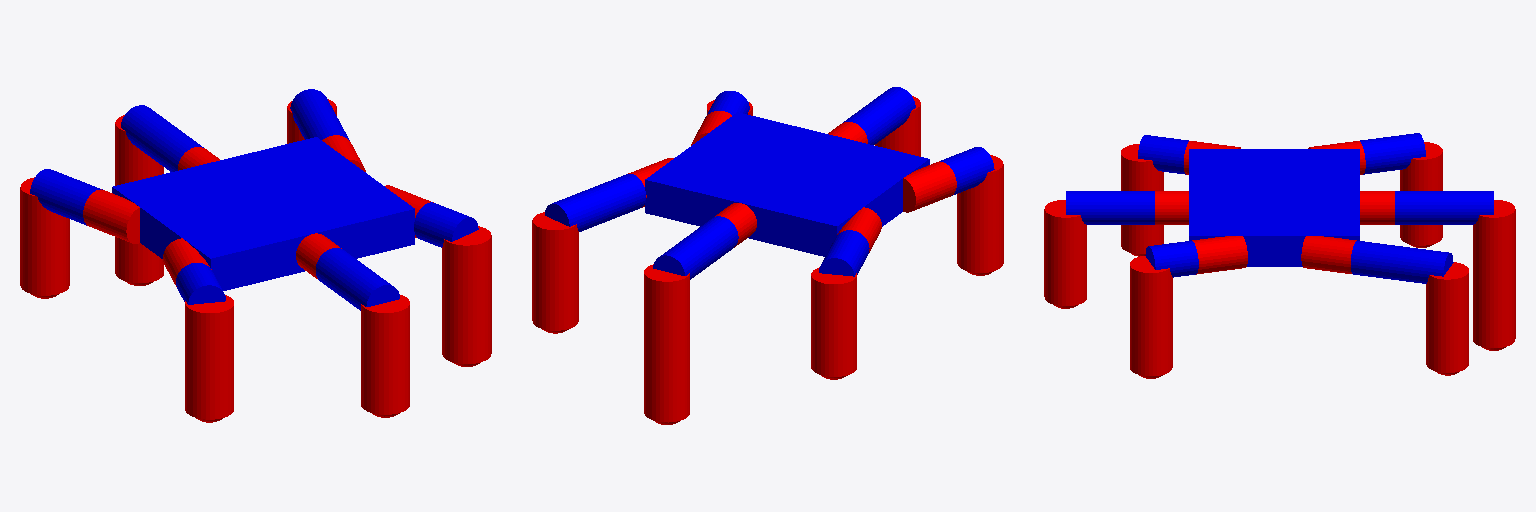
--- Facts derived from the render (not from the file) ---
Views: 3 orthographic renders of the robot side by side, from view 1: azimuth 30°, elevation 25°; view 2: azimuth 150°, elevation 25°; view 3: azimuth 270°, elevation 25°.
Model pexod with 19 links and 18 joints (18 revolute), rooted at base_link, posed every joint at zero.
Links seen in each view (by area): view 1: base_link, leg_3_3, leg_5_3, leg_4_3, leg_0_3, leg_1_3, leg_4_2, leg_1_2, leg_0_1, leg_0_2, leg_3_2, leg_2_2 (+5 smaller); view 2: base_link, leg_1_3, leg_2_3, leg_0_3, leg_5_3, leg_2_2, leg_1_2, leg_4_2, leg_5_1, leg_0_2, leg_5_2, leg_4_3 (+3 smaller); view 3: base_link, leg_1_3, leg_3_3, leg_2_3, leg_4_3, leg_1_2, leg_2_2, leg_4_2, leg_5_3, leg_0_3, leg_0_2, leg_2_1 (+5 smaller).
Boxes of the visible links, x1,y1,x2,y2 form: base_link: (112,137,414,290); leg_3_3: (442,226,491,366); leg_5_3: (185,295,233,422); leg_4_3: (361,295,409,417); leg_0_3: (20,177,69,298); leg_1_3: (115,115,163,285); leg_4_2: (316,248,399,310); leg_1_2: (121,105,203,171); leg_0_1: (83,189,139,243); leg_0_2: (30,169,102,225); leg_3_2: (414,202,478,247); leg_2_2: (290,89,349,140); base_link: (645,112,929,256); leg_1_3: (644,264,689,424); leg_2_3: (532,212,578,333); leg_0_3: (811,267,856,379); leg_5_3: (957,155,1003,275); leg_2_2: (545,174,645,231); leg_1_2: (653,216,738,279); leg_4_2: (843,87,915,144); leg_5_1: (903,161,956,212); leg_0_2: (819,230,869,276); leg_5_2: (940,147,994,195); leg_4_3: (875,96,920,156); base_link: (1189,149,1359,266); leg_1_3: (1473,200,1515,350); leg_3_3: (1130,256,1172,378); leg_2_3: (1426,262,1468,375); leg_4_3: (1044,200,1086,308); leg_1_2: (1395,191,1493,224); leg_2_2: (1351,241,1453,283); leg_4_2: (1066,191,1154,224); leg_5_3: (1121,144,1163,256); leg_0_3: (1400,142,1442,247); leg_0_2: (1360,133,1425,174); leg_2_1: (1301,236,1356,273).
Size in the robot's own frame: 0.3804 by 0.5491 by 0.2005 metres.
Geometry: primitives only (box / cylinder / sphere), no mesh files.

URDF robot description (pexod):
<?xml version="1.0" ?>
<!-- =================================================================================== -->
<!-- |    This document was autogenerated by xacro from pexod.xacro                    | -->
<!-- |    EDITING THIS FILE BY HAND IS NOT RECOMMENDED                                 | -->
<!-- =================================================================================== -->
<robot name="pexod" xmlns:xacro="http://www.ros.org/wiki/xacro">
  <!-- <xacro:include filename="$(find pexod_description)/urdf/pexod_control.xacro" /> -->
  <!-- MATERIALS -->
  <material name="Blue">
    <color rgba="0 0 1 1"/>
  </material>
  <material name="Red">
    <color rgba="1 0 0 1"/>
  </material>
  <material name="Green">
    <color rgba="0 1 0 1"/>
  </material>
  <material name="Yellow">
    <color rgba="1 1 0 1"/>
  </material>
  <material name="LightGrey">
    <color rgba="0.6 0.6 0.6 1.0"/>
  </material>
  <!-- END OF MATERIALS -->
  <!-- XACRO MACROS FOR VISUALS AND COLLISIONS -->
  <!-- END OF XACRO MACROS -->
  <!-- TORSO -->
  <link name="base_link">
    <visual>
      <origin rpy="0 0 0" xyz="0 0 0"/>
      <geometry>
        <box size="0.24 0.2 0.04"/>
      </geometry>
      <material name="Blue"/>
    </visual>
    <collision>
      <origin rpy="0 0 0" xyz="0 0 0"/>
      <geometry>
        <box size="0.24 0.2 0.04"/>
      </geometry>
    </collision>
    <inertial>
      <!-- CENTER OF MASS -->
      <origin rpy="0 0 0" xyz="0 0 0"/>
      <mass value="1.031"/>
      <!-- box inertia: 1/12*m(y^2+z^2), ... -->
      <inertia ixx="0.00357413333333" ixy="0" ixz="0" iyy="0.00508626666667" iyz="0" izz="0.00838546666667"/>
    </inertial>
  </link>
  <!-- XACRO MACRO FOR LEGS LINKS/JOINTS -->
  <!-- END OF LEG LINKS/JOINTS -->
  <joint name="body_leg_2" type="revolute">
    <parent link="base_link"/>
    <child link="leg_2_1"/>
    <limit effort="30.0" lower="-1.57079632679" upper="1.57079632679" velocity="7.0"/>
    <origin rpy="0 0 -0.3" xyz="0.11 0.04 0"/>
    <!-- <xacro:if value="${index == 5 or index == 4 or index == 3}">
                <axis xyz="0 0 1"/>
            </xacro:if>
            <xacro:if value="${index == 2 or index == 1 or index == 0}"> -->
    <axis xyz="0 0 1"/>
    <!-- </xacro:if> -->
    <dynamics damping="0.0"/>
  </joint>
  <link name="leg_2_1">
    <visual>
      <origin rpy="1.57079632679 0 0" xyz="0.01 0.03 0"/>
      <geometry>
        <cylinder length="0.06" radius="0.02"/>
      </geometry>
      <material name="Red"/>
    </visual>
    <collision>
      <origin rpy="1.57079632679 0 0" xyz="0.01 0.03 0"/>
      <geometry>
        <box size="0.02 0.02 0.06"/>
      </geometry>
    </collision>
    <inertial>
      <!-- CENTER OF MASS -->
      <origin rpy="1.57079632679 0 0" xyz="0.01 0.03 0"/>
      <mass value="0.02"/>
      <!-- box inertia: 1/12*m(y^2+z^2), ... -->
      <inertia ixx="6.66666666667e-06" ixy="0" ixz="0" iyy="6.66666666667e-06" iyz="0" izz="1.33333333333e-06"/>
    </inertial>
  </link>
  <joint name="leg_2_1_2" type="revolute">
    <parent link="leg_2_1"/>
    <child link="leg_2_2"/>
    <limit effort="30.0" lower="-0.78539816339" upper="0.78539816339" velocity="7.0"/>
    <origin rpy="0 0 0" xyz="0 0.06 0"/>
    <axis xyz="1 0 0"/>
    <dynamics damping="0.0"/>
  </joint>
  <link name="leg_2_2">
    <visual>
      <origin rpy="1.57079632679 0 0" xyz="0.01 0.056655807546 0"/>
      <geometry>
        <cylinder length="0.113311615092" radius="0.02"/>
      </geometry>
      <material name="Blue"/>
    </visual>
    <collision>
      <origin rpy="1.57079632679 0 0" xyz="0.01 0.056655807546 0"/>
      <geometry>
        <box size="0.02 0.02 0.113311615092"/>
      </geometry>
    </collision>
    <inertial>
      <!-- CENTER OF MASS -->
      <origin rpy="1.57079632679 0 0" xyz="0.01 0.056655807546 0"/>
      <mass value="0.184"/>
      <!-- box inertia: 1/12*m(y^2+z^2), ... -->
      <inertia ixx="0.00020300600576" ixy="0" ixz="0" iyy="0.00020300600576" iyz="0" izz="1.22666666667e-05"/>
    </inertial>
  </link>
  <joint name="leg_2_2_3" type="revolute">
    <parent link="leg_2_2"/>
    <child link="leg_2_3"/>
    <limit effort="30.0" lower="-0.78539816339" upper="0.78539816339" velocity="7.0"/>
    <origin rpy="-1.57079632679 0 0" xyz="0 0.113311615092 0"/>
    <axis xyz="-1 0 0"/>
    <dynamics damping="0.0"/>
  </joint>
  <link name="leg_2_3">
    <visual>
      <origin rpy="1.57079632679 0 0" xyz="0.0125 0.0600627365275 0"/>
      <geometry>
        <cylinder length="0.120125473055" radius="0.025"/>
      </geometry>
      <material name="Red"/>
    </visual>
    <visual>
      <origin rpy="1.57079632679 0 0" xyz="0.0125 0.107625473055 0"/>
      <geometry>
        <sphere radius="0.025"/>
      </geometry>
      <material name="Red"/>
    </visual>
    <collision>
      <origin rpy="1.57079632679 0 0" xyz="0.0125 0.0600627365275 0"/>
      <geometry>
        <box size="0.025 0.025 0.120125473055"/>
      </geometry>
    </collision>
    <collision>
      <origin rpy="1.57079632679 0 0" xyz="0.0125 0.107625473055 0"/>
      <geometry>
        <sphere radius="0.025"/>
      </geometry>
      <material name="Red"/>
    </collision>
    <inertial>
      <!-- CENTER OF MASS -->
      <origin rpy="1.57079632679 0 0" xyz="0.0125 0.0600627365275 0"/>
      <mass value="0.04"/>
      <!-- box inertia: 1/12*m(y^2+z^2), ... -->
      <inertia ixx="5.01837642556e-05" ixy="0" ixz="0" iyy="5.01837642556e-05" iyz="0" izz="4.16666666667e-06"/>
    </inertial>
  </link>
  <joint name="body_leg_3" type="revolute">
    <parent link="base_link"/>
    <child link="leg_3_1"/>
    <limit effort="30.0" lower="-1.57079632679" upper="1.57079632679" velocity="7.0"/>
    <origin rpy="0 0 0.3" xyz="0.11 -0.04 0"/>
    <!-- <xacro:if value="${index == 5 or index == 4 or index == 3}">
                <axis xyz="0 0 1"/>
            </xacro:if>
            <xacro:if value="${index == 2 or index == 1 or index == 0}"> -->
    <axis xyz="0 0 1"/>
    <!-- </xacro:if> -->
    <dynamics damping="0.0"/>
  </joint>
  <link name="leg_3_1">
    <visual>
      <origin rpy="1.57079632679 0 0" xyz="0.01 -0.03 0"/>
      <geometry>
        <cylinder length="0.06" radius="0.02"/>
      </geometry>
      <material name="Red"/>
    </visual>
    <collision>
      <origin rpy="1.57079632679 0 0" xyz="0.01 -0.03 0"/>
      <geometry>
        <box size="0.02 0.02 0.06"/>
      </geometry>
    </collision>
    <inertial>
      <!-- CENTER OF MASS -->
      <origin rpy="1.57079632679 0 0" xyz="0.01 -0.03 0"/>
      <mass value="0.02"/>
      <!-- box inertia: 1/12*m(y^2+z^2), ... -->
      <inertia ixx="6.66666666667e-06" ixy="0" ixz="0" iyy="6.66666666667e-06" iyz="0" izz="1.33333333333e-06"/>
    </inertial>
  </link>
  <joint name="leg_3_1_2" type="revolute">
    <parent link="leg_3_1"/>
    <child link="leg_3_2"/>
    <limit effort="30.0" lower="-0.78539816339" upper="0.78539816339" velocity="7.0"/>
    <origin rpy="0 0 0" xyz="0 -0.06 0"/>
    <axis xyz="-1 0 0"/>
    <dynamics damping="0.0"/>
  </joint>
  <link name="leg_3_2">
    <visual>
      <origin rpy="1.57079632679 0 0" xyz="0.01 -0.0263421853258 0"/>
      <geometry>
        <cylinder length="0.0526843706516" radius="0.02"/>
      </geometry>
      <material name="Blue"/>
    </visual>
    <collision>
      <origin rpy="1.57079632679 0 0" xyz="0.01 -0.0263421853258 0"/>
      <geometry>
        <box size="0.02 0.02 0.0526843706516"/>
      </geometry>
    </collision>
    <inertial>
      <!-- CENTER OF MASS -->
      <origin rpy="1.57079632679 0 0" xyz="0.01 -0.0263421853258 0"/>
      <mass value="0.184"/>
      <!-- box inertia: 1/12*m(y^2+z^2), ... -->
      <inertia ixx="4.86931913013e-05" ixy="0" ixz="0" iyy="4.86931913013e-05" iyz="0" izz="1.22666666667e-05"/>
    </inertial>
  </link>
  <joint name="leg_3_2_3" type="revolute">
    <parent link="leg_3_2"/>
    <child link="leg_3_3"/>
    <limit effort="30.0" lower="-0.78539816339" upper="0.78539816339" velocity="7.0"/>
    <origin rpy="1.57079632679 0 0" xyz="0 -0.0526843706516 0"/>
    <axis xyz="1 0 0"/>
    <dynamics damping="0.0"/>
  </joint>
  <link name="leg_3_3">
    <visual>
      <origin rpy="1.57079632679 0 0" xyz="0.0125 -0.0664617182135 0"/>
      <geometry>
        <cylinder length="0.132923436427" radius="0.025"/>
      </geometry>
      <material name="Red"/>
    </visual>
    <visual>
      <origin rpy="1.57079632679 0 0" xyz="0.0125 -0.120423436427 0"/>
      <geometry>
        <sphere radius="0.025"/>
      </geometry>
      <material name="Red"/>
    </visual>
    <collision>
      <origin rpy="1.57079632679 0 0" xyz="0.0125 -0.0664617182135 0"/>
      <geometry>
        <box size="0.025 0.025 0.132923436427"/>
      </geometry>
    </collision>
    <collision>
      <origin rpy="1.57079632679 0 0" xyz="0.0125 -0.120423436427 0"/>
      <geometry>
        <sphere radius="0.025"/>
      </geometry>
      <material name="Red"/>
    </collision>
    <inertial>
      <!-- CENTER OF MASS -->
      <origin rpy="1.57079632679 0 0" xyz="0.0125 -0.0664617182135 0"/>
      <mass value="0.04"/>
      <!-- box inertia: 1/12*m(y^2+z^2), ... -->
      <inertia ixx="6.09787998385e-05" ixy="0" ixz="0" iyy="6.09787998385e-05" iyz="0" izz="4.16666666667e-06"/>
    </inertial>
  </link>
  <joint name="body_leg_0" type="revolute">
    <parent link="base_link"/>
    <child link="leg_0_1"/>
    <limit effort="30.0" lower="-1.57079632679" upper="1.57079632679" velocity="7.0"/>
    <origin rpy="0 0 0.3" xyz="-0.13 0.04 0"/>
    <!-- <xacro:if value="${index == 5 or index == 4 or index == 3}">
                <axis xyz="0 0 1"/>
            </xacro:if>
            <xacro:if value="${index == 2 or index == 1 or index == 0}"> -->
    <axis xyz="0 0 1"/>
    <!-- </xacro:if> -->
    <dynamics damping="0.0"/>
  </joint>
  <link name="leg_0_1">
    <visual>
      <origin rpy="1.57079632679 0 0" xyz="0.01 0.03 0"/>
      <geometry>
        <cylinder length="0.06" radius="0.02"/>
      </geometry>
      <material name="Red"/>
    </visual>
    <collision>
      <origin rpy="1.57079632679 0 0" xyz="0.01 0.03 0"/>
      <geometry>
        <box size="0.02 0.02 0.06"/>
      </geometry>
    </collision>
    <inertial>
      <!-- CENTER OF MASS -->
      <origin rpy="1.57079632679 0 0" xyz="0.01 0.03 0"/>
      <mass value="0.02"/>
      <!-- box inertia: 1/12*m(y^2+z^2), ... -->
      <inertia ixx="6.66666666667e-06" ixy="0" ixz="0" iyy="6.66666666667e-06" iyz="0" izz="1.33333333333e-06"/>
    </inertial>
  </link>
  <joint name="leg_0_1_2" type="revolute">
    <parent link="leg_0_1"/>
    <child link="leg_0_2"/>
    <limit effort="30.0" lower="-0.78539816339" upper="0.78539816339" velocity="7.0"/>
    <origin rpy="0 0 0" xyz="0 0.06 0"/>
    <axis xyz="1 0 0"/>
    <dynamics damping="0.0"/>
  </joint>
  <link name="leg_0_2">
    <visual>
      <origin rpy="1.57079632679 0 0" xyz="0.01 0.0367106038336 0"/>
      <geometry>
        <cylinder length="0.0734212076672" radius="0.02"/>
      </geometry>
      <material name="Blue"/>
    </visual>
    <collision>
      <origin rpy="1.57079632679 0 0" xyz="0.01 0.0367106038336 0"/>
      <geometry>
        <box size="0.02 0.02 0.0734212076672"/>
      </geometry>
    </collision>
    <inertial>
      <!-- CENTER OF MASS -->
      <origin rpy="1.57079632679 0 0" xyz="0.01 0.0367106038336 0"/>
      <mass value="0.184"/>
      <!-- box inertia: 1/12*m(y^2+z^2), ... -->
      <inertia ixx="8.87903306081e-05" ixy="0" ixz="0" iyy="8.87903306081e-05" iyz="0" izz="1.22666666667e-05"/>
    </inertial>
  </link>
  <joint name="leg_0_2_3" type="revolute">
    <parent link="leg_0_2"/>
    <child link="leg_0_3"/>
    <limit effort="30.0" lower="-0.78539816339" upper="0.78539816339" velocity="7.0"/>
    <origin rpy="-1.57079632679 0 0" xyz="0 0.0734212076672 0"/>
    <axis xyz="-1 0 0"/>
    <dynamics damping="0.0"/>
  </joint>
  <link name="leg_0_3">
    <visual>
      <origin rpy="1.57079632679 0 0" xyz="0.0125 0.055294592567 0"/>
      <geometry>
        <cylinder length="0.110589185134" radius="0.025"/>
      </geometry>
      <material name="Red"/>
    </visual>
    <visual>
      <origin rpy="1.57079632679 0 0" xyz="0.0125 0.098089185134 0"/>
      <geometry>
        <sphere radius="0.025"/>
      </geometry>
      <material name="Red"/>
    </visual>
    <collision>
      <origin rpy="1.57079632679 0 0" xyz="0.0125 0.055294592567 0"/>
      <geometry>
        <box size="0.025 0.025 0.110589185134"/>
      </geometry>
    </collision>
    <collision>
      <origin rpy="1.57079632679 0 0" xyz="0.0125 0.098089185134 0"/>
      <geometry>
        <sphere radius="0.025"/>
      </geometry>
      <material name="Red"/>
    </collision>
    <inertial>
      <!-- CENTER OF MASS -->
      <origin rpy="1.57079632679 0 0" xyz="0.0125 0.055294592567 0"/>
      <mass value="0.04"/>
      <!-- box inertia: 1/12*m(y^2+z^2), ... -->
      <inertia ixx="4.28498928953e-05" ixy="0" ixz="0" iyy="4.28498928953e-05" iyz="0" izz="4.16666666667e-06"/>
    </inertial>
  </link>
  <joint name="body_leg_5" type="revolute">
    <parent link="base_link"/>
    <child link="leg_5_1"/>
    <limit effort="30.0" lower="-1.57079632679" upper="1.57079632679" velocity="7.0"/>
    <origin rpy="0 0 -0.3" xyz="-0.13 -0.04 0"/>
    <!-- <xacro:if value="${index == 5 or index == 4 or index == 3}">
                <axis xyz="0 0 1"/>
            </xacro:if>
            <xacro:if value="${index == 2 or index == 1 or index == 0}"> -->
    <axis xyz="0 0 1"/>
    <!-- </xacro:if> -->
    <dynamics damping="0.0"/>
  </joint>
  <link name="leg_5_1">
    <visual>
      <origin rpy="1.57079632679 0 0" xyz="0.01 -0.03 0"/>
      <geometry>
        <cylinder length="0.06" radius="0.02"/>
      </geometry>
      <material name="Red"/>
    </visual>
    <collision>
      <origin rpy="1.57079632679 0 0" xyz="0.01 -0.03 0"/>
      <geometry>
        <box size="0.02 0.02 0.06"/>
      </geometry>
    </collision>
    <inertial>
      <!-- CENTER OF MASS -->
      <origin rpy="1.57079632679 0 0" xyz="0.01 -0.03 0"/>
      <mass value="0.02"/>
      <!-- box inertia: 1/12*m(y^2+z^2), ... -->
      <inertia ixx="6.66666666667e-06" ixy="0" ixz="0" iyy="6.66666666667e-06" iyz="0" izz="1.33333333333e-06"/>
    </inertial>
  </link>
  <joint name="leg_5_1_2" type="revolute">
    <parent link="leg_5_1"/>
    <child link="leg_5_2"/>
    <limit effort="30.0" lower="-0.78539816339" upper="0.78539816339" velocity="7.0"/>
    <origin rpy="0 0 0" xyz="0 -0.06 0"/>
    <axis xyz="-1 0 0"/>
    <dynamics damping="0.0"/>
  </joint>
  <link name="leg_5_2">
    <visual>
      <origin rpy="1.57079632679 0 0" xyz="0.01 -0.027907645117 0"/>
      <geometry>
        <cylinder length="0.0558152902339" radius="0.02"/>
      </geometry>
      <material name="Blue"/>
    </visual>
    <collision>
      <origin rpy="1.57079632679 0 0" xyz="0.01 -0.027907645117 0"/>
      <geometry>
        <box size="0.02 0.02 0.0558152902339"/>
      </geometry>
    </collision>
    <inertial>
      <!-- CENTER OF MASS -->
      <origin rpy="1.57079632679 0 0" xyz="0.01 -0.027907645117 0"/>
      <mass value="0.184"/>
      <!-- box inertia: 1/12*m(y^2+z^2), ... -->
      <inertia ixx="5.39019815664e-05" ixy="0" ixz="0" iyy="5.39019815664e-05" iyz="0" izz="1.22666666667e-05"/>
    </inertial>
  </link>
  <joint name="leg_5_2_3" type="revolute">
    <parent link="leg_5_2"/>
    <child link="leg_5_3"/>
    <limit effort="30.0" lower="-0.78539816339" upper="0.78539816339" velocity="7.0"/>
    <origin rpy="1.57079632679 0 0" xyz="0 -0.0558152902339 0"/>
    <axis xyz="1 0 0"/>
    <dynamics damping="0.0"/>
  </joint>
  <link name="leg_5_3">
    <visual>
      <origin rpy="1.57079632679 0 0" xyz="0.0125 -0.059586113601 0"/>
      <geometry>
        <cylinder length="0.119172227202" radius="0.025"/>
      </geometry>
      <material name="Red"/>
    </visual>
    <visual>
      <origin rpy="1.57079632679 0 0" xyz="0.0125 -0.106672227202 0"/>
      <geometry>
        <sphere radius="0.025"/>
      </geometry>
      <material name="Red"/>
    </visual>
    <collision>
      <origin rpy="1.57079632679 0 0" xyz="0.0125 -0.059586113601 0"/>
      <geometry>
        <box size="0.025 0.025 0.119172227202"/>
      </geometry>
    </collision>
    <collision>
      <origin rpy="1.57079632679 0 0" xyz="0.0125 -0.106672227202 0"/>
      <geometry>
        <sphere radius="0.025"/>
      </geometry>
      <material name="Red"/>
    </collision>
    <inertial>
      <!-- CENTER OF MASS -->
      <origin rpy="1.57079632679 0 0" xyz="0.0125 -0.059586113601 0"/>
      <mass value="0.04"/>
      <!-- box inertia: 1/12*m(y^2+z^2), ... -->
      <inertia ixx="4.9423399121e-05" ixy="0" ixz="0" iyy="4.9423399121e-05" iyz="0" izz="4.16666666667e-06"/>
    </inertial>
  </link>
  <joint name="body_leg_1" type="revolute">
    <parent link="base_link"/>
    <child link="leg_1_1"/>
    <limit effort="30.0" lower="-1.57079632679" upper="1.57079632679" velocity="7.0"/>
    <origin rpy="0 0 0" xyz="-0.01 0.08 0"/>
    <!-- <xacro:if value="${index == 5 or index == 4 or index == 3}">
                <axis xyz="0 0 1"/>
            </xacro:if>
            <xacro:if value="${index == 2 or index == 1 or index == 0}"> -->
    <axis xyz="0 0 1"/>
    <!-- </xacro:if> -->
    <dynamics damping="0.0"/>
  </joint>
  <link name="leg_1_1">
    <visual>
      <origin rpy="1.57079632679 0 0" xyz="0.01 0.03 0"/>
      <geometry>
        <cylinder length="0.06" radius="0.02"/>
      </geometry>
      <material name="Red"/>
    </visual>
    <collision>
      <origin rpy="1.57079632679 0 0" xyz="0.01 0.03 0"/>
      <geometry>
        <box size="0.02 0.02 0.06"/>
      </geometry>
    </collision>
    <inertial>
      <!-- CENTER OF MASS -->
      <origin rpy="1.57079632679 0 0" xyz="0.01 0.03 0"/>
      <mass value="0.02"/>
      <!-- box inertia: 1/12*m(y^2+z^2), ... -->
      <inertia ixx="6.66666666667e-06" ixy="0" ixz="0" iyy="6.66666666667e-06" iyz="0" izz="1.33333333333e-06"/>
    </inertial>
  </link>
  <joint name="leg_1_1_2" type="revolute">
    <parent link="leg_1_1"/>
    <child link="leg_1_2"/>
    <limit effort="30.0" lower="-0.78539816339" upper="0.78539816339" velocity="7.0"/>
    <origin rpy="0 0 0" xyz="0 0.06 0"/>
    <axis xyz="1 0 0"/>
    <dynamics damping="0.0"/>
  </joint>
  <link name="leg_1_2">
    <visual>
      <origin rpy="1.57079632679 0 0" xyz="0.01 0.057899108138 0"/>
      <geometry>
        <cylinder length="0.115798216276" radius="0.02"/>
      </geometry>
      <material name="Blue"/>
    </visual>
    <collision>
      <origin rpy="1.57079632679 0 0" xyz="0.01 0.057899108138 0"/>
      <geometry>
        <box size="0.02 0.02 0.115798216276"/>
      </geometry>
    </collision>
    <inertial>
      <!-- CENTER OF MASS -->
      <origin rpy="1.57079632679 0 0" xyz="0.01 0.057899108138 0"/>
      <mass value="0.184"/>
      <!-- box inertia: 1/12*m(y^2+z^2), ... -->
      <inertia ixx="0.000211741479021" ixy="0" ixz="0" iyy="0.000211741479021" iyz="0" izz="1.22666666667e-05"/>
    </inertial>
  </link>
  <joint name="leg_1_2_3" type="revolute">
    <parent link="leg_1_2"/>
    <child link="leg_1_3"/>
    <limit effort="30.0" lower="-0.78539816339" upper="0.78539816339" velocity="7.0"/>
    <origin rpy="-1.57079632679 0 0" xyz="0 0.115798216276 0"/>
    <axis xyz="-1 0 0"/>
    <dynamics damping="0.0"/>
  </joint>
  <link name="leg_1_3">
    <visual>
      <origin rpy="1.57079632679 0 0" xyz="0.0125 0.0840228012725 0"/>
      <geometry>
        <cylinder length="0.168045602545" radius="0.025"/>
      </geometry>
      <material name="Red"/>
    </visual>
    <visual>
      <origin rpy="1.57079632679 0 0" xyz="0.0125 0.155545602545 0"/>
      <geometry>
        <sphere radius="0.025"/>
      </geometry>
      <material name="Red"/>
    </visual>
    <collision>
      <origin rpy="1.57079632679 0 0" xyz="0.0125 0.0840228012725 0"/>
      <geometry>
        <box size="0.025 0.025 0.168045602545"/>
      </geometry>
    </collision>
    <collision>
      <origin rpy="1.57079632679 0 0" xyz="0.0125 0.155545602545 0"/>
      <geometry>
        <sphere radius="0.025"/>
      </geometry>
      <material name="Red"/>
    </collision>
    <inertial>
      <!-- CENTER OF MASS -->
      <origin rpy="1.57079632679 0 0" xyz="0.0125 0.0840228012725 0"/>
      <mass value="0.04"/>
      <!-- box inertia: 1/12*m(y^2+z^2), ... -->
      <inertia ixx="9.62144151157e-05" ixy="0" ixz="0" iyy="9.62144151157e-05" iyz="0" izz="4.16666666667e-06"/>
    </inertial>
  </link>
  <joint name="body_leg_4" type="revolute">
    <parent link="base_link"/>
    <child link="leg_4_1"/>
    <limit effort="30.0" lower="-1.57079632679" upper="1.57079632679" velocity="7.0"/>
    <origin rpy="0 0 0" xyz="-0.01 -0.08 0"/>
    <!-- <xacro:if value="${index == 5 or index == 4 or index == 3}">
                <axis xyz="0 0 1"/>
            </xacro:if>
            <xacro:if value="${index == 2 or index == 1 or index == 0}"> -->
    <axis xyz="0 0 1"/>
    <!-- </xacro:if> -->
    <dynamics damping="0.0"/>
  </joint>
  <link name="leg_4_1">
    <visual>
      <origin rpy="1.57079632679 0 0" xyz="0.01 -0.03 0"/>
      <geometry>
        <cylinder length="0.06" radius="0.02"/>
      </geometry>
      <material name="Red"/>
    </visual>
    <collision>
      <origin rpy="1.57079632679 0 0" xyz="0.01 -0.03 0"/>
      <geometry>
        <box size="0.02 0.02 0.06"/>
      </geometry>
    </collision>
    <inertial>
      <!-- CENTER OF MASS -->
      <origin rpy="1.57079632679 0 0" xyz="0.01 -0.03 0"/>
      <mass value="0.02"/>
      <!-- box inertia: 1/12*m(y^2+z^2), ... -->
      <inertia ixx="6.66666666667e-06" ixy="0" ixz="0" iyy="6.66666666667e-06" iyz="0" izz="1.33333333333e-06"/>
    </inertial>
  </link>
  <joint name="leg_4_1_2" type="revolute">
    <parent link="leg_4_1"/>
    <child link="leg_4_2"/>
    <limit effort="30.0" lower="-0.78539816339" upper="0.78539816339" velocity="7.0"/>
    <origin rpy="0 0 0" xyz="0 -0.06 0"/>
    <axis xyz="-1 0 0"/>
    <dynamics damping="0.0"/>
  </joint>
  <link name="leg_4_2">
    <visual>
      <origin rpy="1.57079632679 0 0" xyz="0.01 -0.0516505077525 0"/>
      <geometry>
        <cylinder length="0.103301015505" radius="0.02"/>
      </geometry>
      <material name="Blue"/>
    </visual>
    <collision>
      <origin rpy="1.57079632679 0 0" xyz="0.01 -0.0516505077525 0"/>
      <geometry>
        <box size="0.02 0.02 0.103301015505"/>
      </geometry>
    </collision>
    <inertial>
      <!-- CENTER OF MASS -->
      <origin rpy="1.57079632679 0 0" xyz="0.01 -0.0516505077525 0"/>
      <mass value="0.184"/>
      <!-- box inertia: 1/12*m(y^2+z^2), ... -->
      <inertia ixx="0.000169756863667" ixy="0" ixz="0" iyy="0.000169756863667" iyz="0" izz="1.22666666667e-05"/>
    </inertial>
  </link>
  <joint name="leg_4_2_3" type="revolute">
    <parent link="leg_4_2"/>
    <child link="leg_4_3"/>
    <limit effort="30.0" lower="-0.78539816339" upper="0.78539816339" velocity="7.0"/>
    <origin rpy="1.57079632679 0 0" xyz="0 -0.103301015505 0"/>
    <axis xyz="1 0 0"/>
    <dynamics damping="0.0"/>
  </joint>
  <link name="leg_4_3">
    <visual>
      <origin rpy="1.57079632679 0 0" xyz="0.0125 -0.0569906347105 0"/>
      <geometry>
        <cylinder length="0.113981269421" radius="0.025"/>
      </geometry>
      <material name="Red"/>
    </visual>
    <visual>
      <origin rpy="1.57079632679 0 0" xyz="0.0125 -0.101481269421 0"/>
      <geometry>
        <sphere radius="0.025"/>
      </geometry>
      <material name="Red"/>
    </visual>
    <collision>
      <origin rpy="1.57079632679 0 0" xyz="0.0125 -0.0569906347105 0"/>
      <geometry>
        <box size="0.025 0.025 0.113981269421"/>
      </geometry>
    </collision>
    <collision>
      <origin rpy="1.57079632679 0 0" xyz="0.0125 -0.101481269421 0"/>
      <geometry>
        <sphere radius="0.025"/>
      </geometry>
      <material name="Red"/>
    </collision>
    <inertial>
      <!-- CENTER OF MASS -->
      <origin rpy="1.57079632679 0 0" xyz="0.0125 -0.0569906347105 0"/>
      <mass value="0.04"/>
      <!-- box inertia: 1/12*m(y^2+z^2), ... -->
      <inertia ixx="4.53890992627e-05" ixy="0" ixz="0" iyy="4.53890992627e-05" iyz="0" izz="4.16666666667e-06"/>
    </inertial>
  </link>
  <!-- END OF LEG LINKS/JOINTS -->
</robot>
